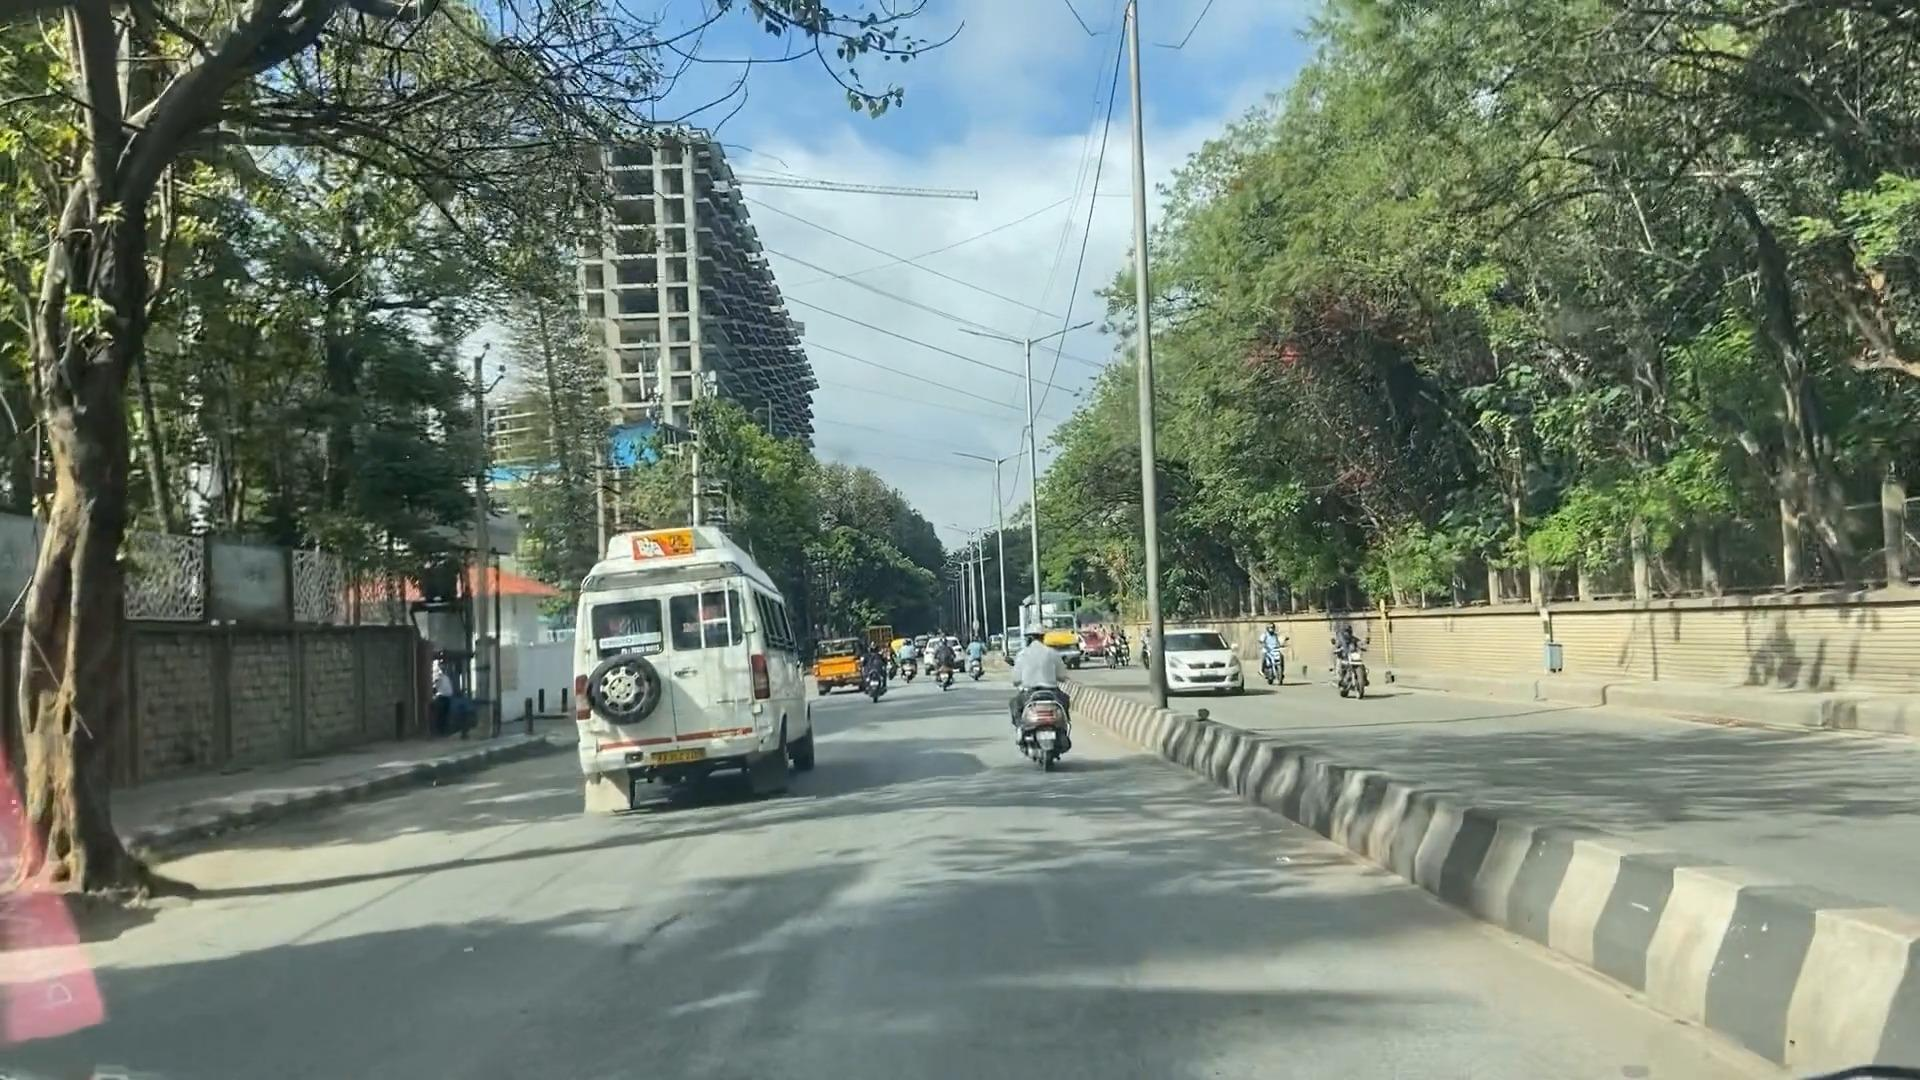HMV: (555, 501, 827, 819)
LMV: (1015, 603, 1096, 785)
